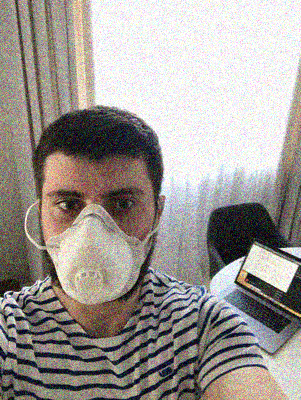with_mask: (42, 176, 151, 304)
